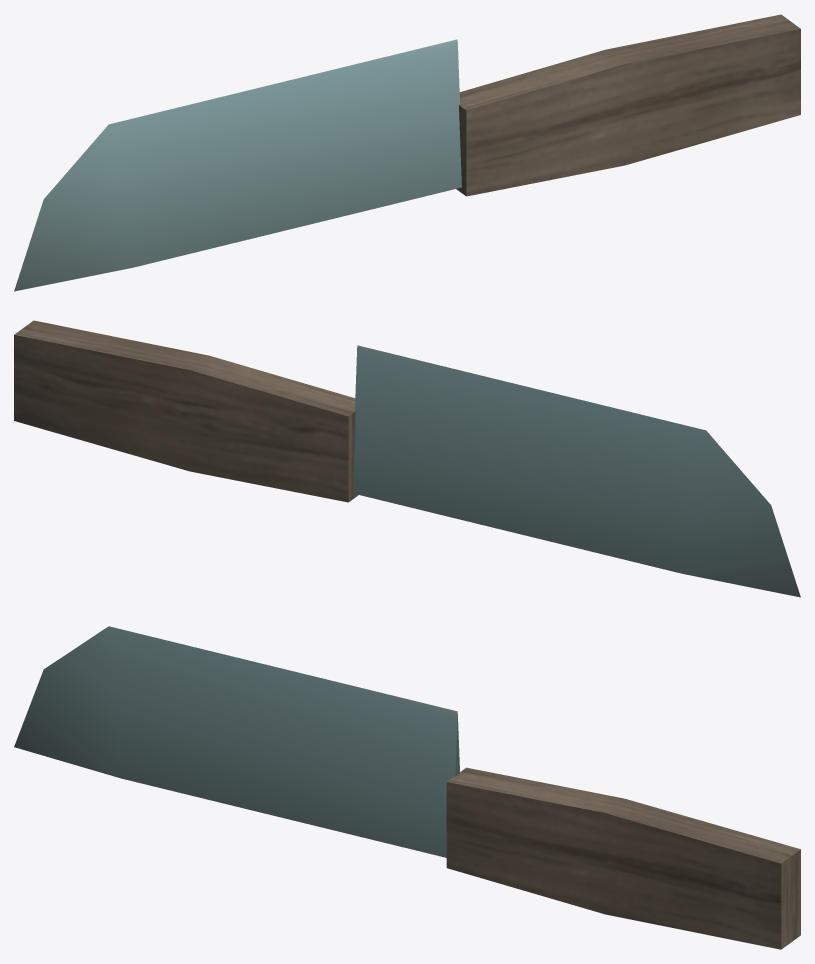
The model's file is Knife_B.fbx.
3 renders of one model, top to bottom at view 1: azimuth 30°, elevation 25°; view 2: azimuth 150°, elevation 25°; view 3: azimuth 330°, elevation 25°, orthographic.
Visible parts, largest first — view 1: Knife_B; view 2: Knife_B; view 3: Knife_B.
Boxes of the visible parts, x1=… form: Knife_B: x1=14, y1=14, x2=800, y2=291; Knife_B: x1=14, y1=320, x2=800, y2=597; Knife_B: x1=14, y1=626, x2=800, y2=949.
Bounding box in the file's own units: 1.3 × 0.252 × 0.0572.
